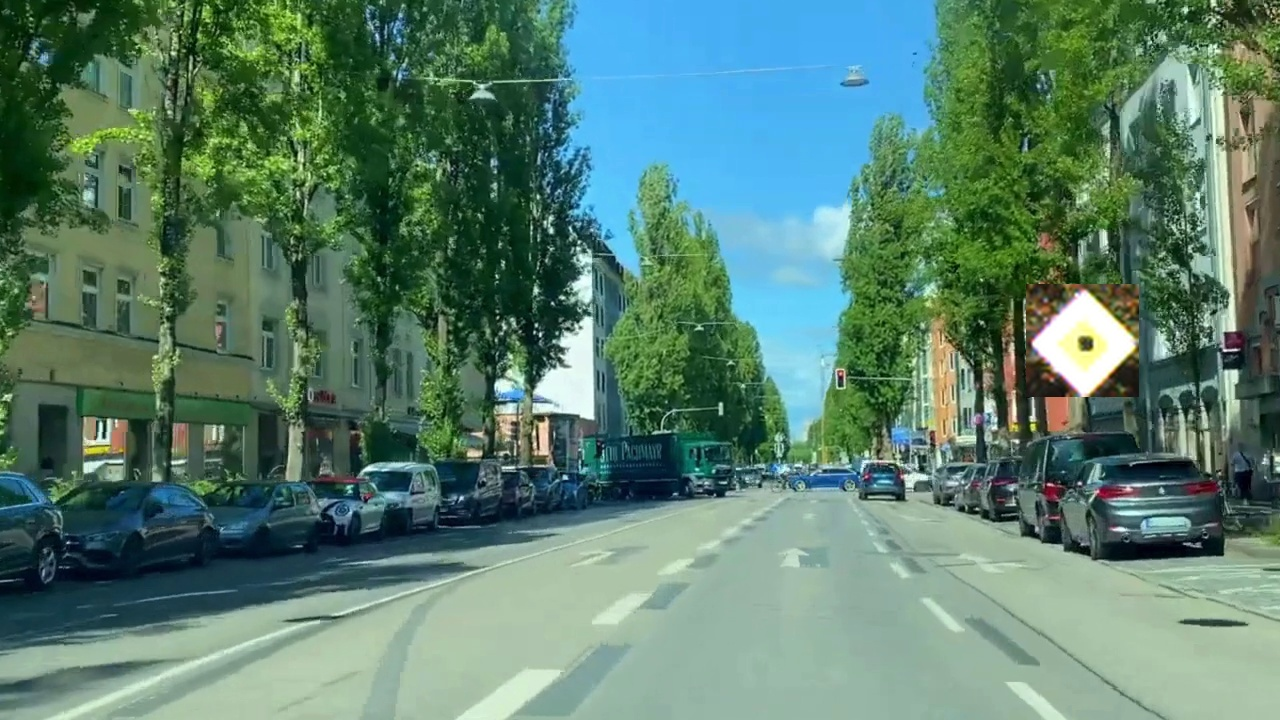Priority road: (1026, 284, 1139, 397)
